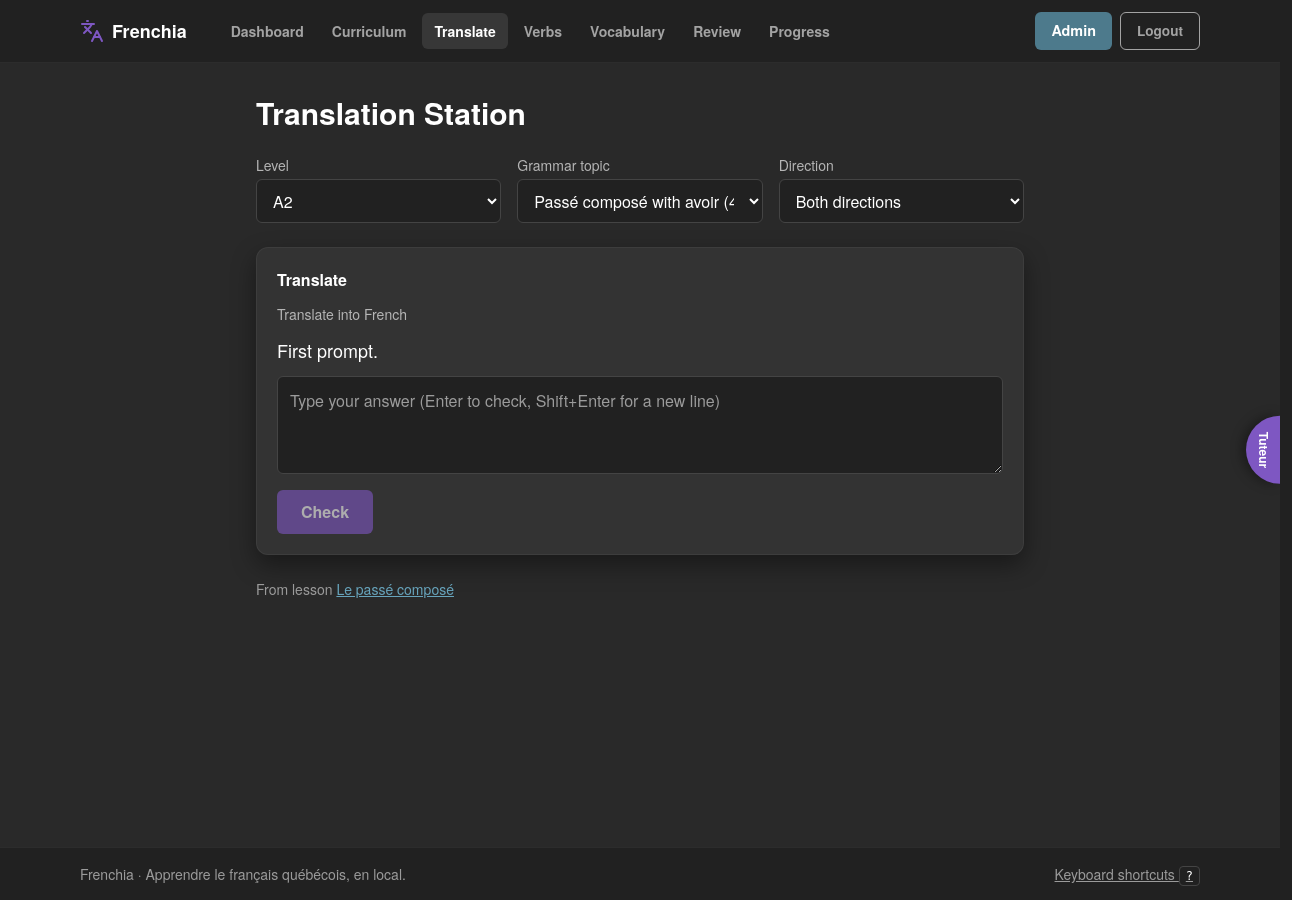
Translation Station › builds the query string from URL filters and from changes
Check: the text "First prompt." is shown, box [277, 336, 378, 364]
Check: the dropdown labelled "Level" shows "A2", box [256, 179, 501, 223]
Select "FR → EN" in the dropdown labelled "Direction": (901, 201) [779, 179, 1024, 223]
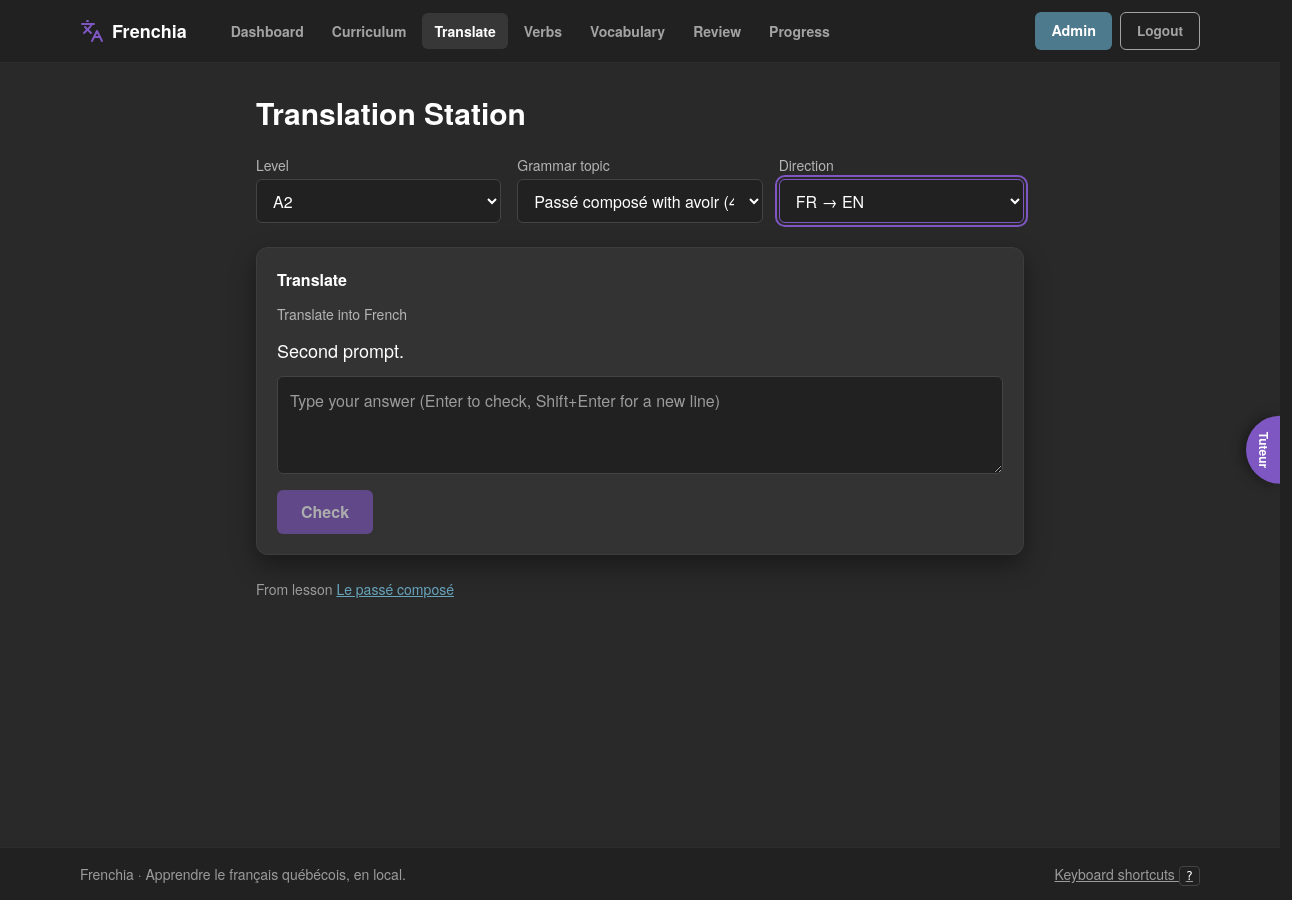
Check: the text "Second prompt." is shown, box [277, 336, 404, 364]
